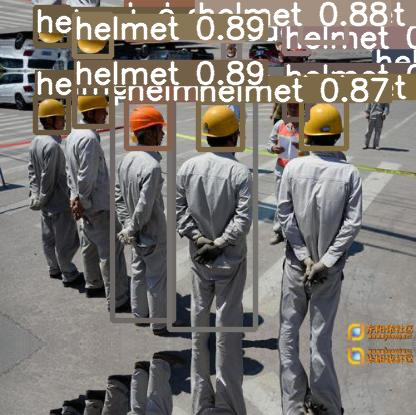head: (223, 41, 239, 60)
helmet: (301, 99, 346, 148), (126, 101, 170, 148), (198, 102, 242, 149), (300, 0, 346, 42), (197, 0, 243, 40), (126, 0, 169, 39), (74, 14, 111, 56), (74, 85, 111, 126), (35, 7, 69, 45), (35, 95, 68, 132), (284, 23, 308, 53), (284, 88, 307, 119), (374, 51, 387, 67), (374, 73, 387, 89)
person: (169, 92, 255, 329), (112, 99, 173, 320)
